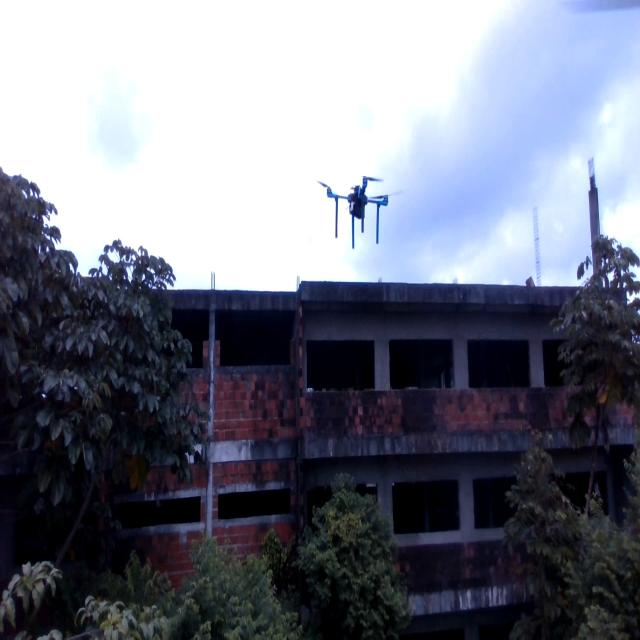-uav-: (311, 164, 409, 253)
